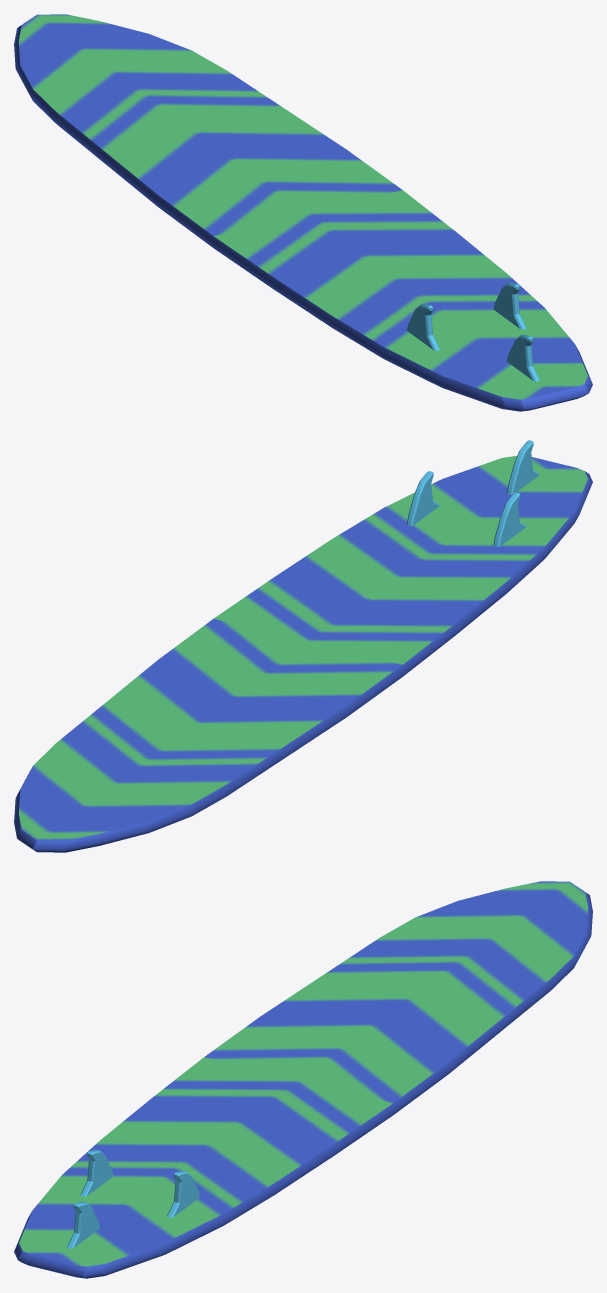
The model's file is surfboard-1.fbx.
3 views of the same model, one above another, from view 1: azimuth 30°, elevation 25°; view 2: azimuth 150°, elevation 25°; view 3: azimuth 330°, elevation 25° (orthographic).
Parts seen in each view (by area): view 1: pCube10; view 2: pCube10; view 3: pCube10.
Part boxes in pixels (box(x1,y1,x2,y2)): pCube10: box(14, 14, 592, 411); pCube10: box(14, 440, 592, 852); pCube10: box(14, 881, 592, 1278).
Size of the model in its own units: 9.89 by 2.48 by 46.66.
1 material, 1 textured.
